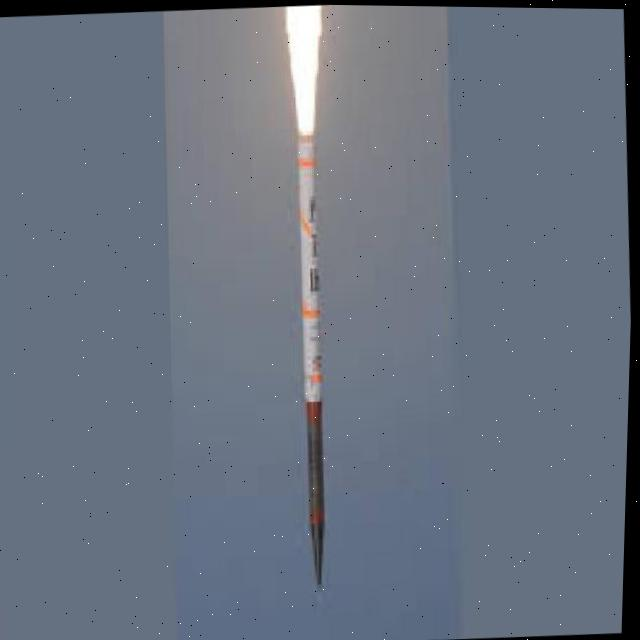missile: (280, 131, 348, 592)
